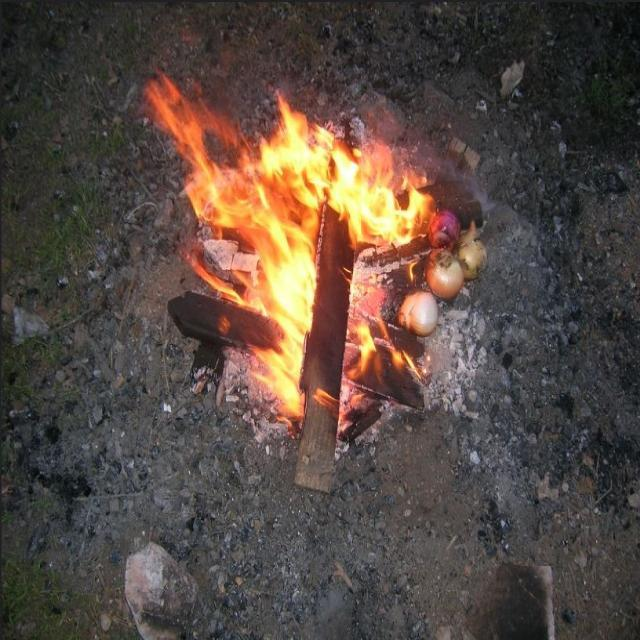Fire: (141, 67, 437, 436)
Smoke: (440, 145, 498, 215)
